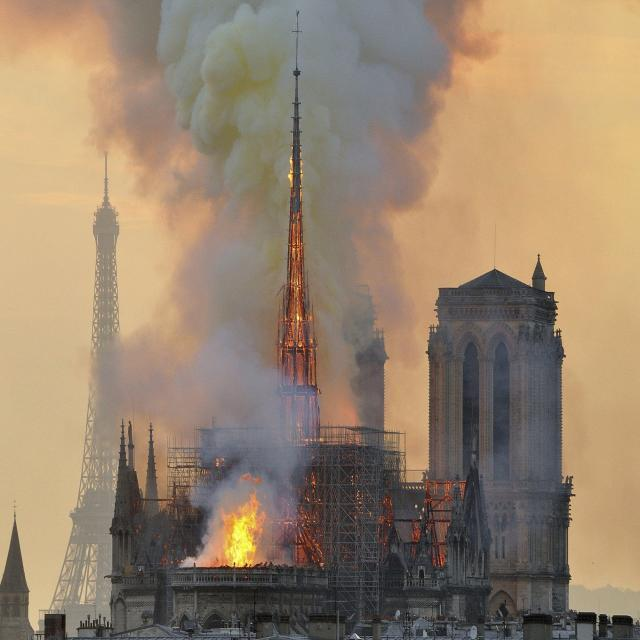Fire: (279, 205, 315, 348), (217, 488, 267, 568), (296, 472, 325, 566), (288, 130, 303, 203), (424, 479, 466, 502), (278, 347, 316, 368), (438, 502, 451, 542), (381, 498, 394, 528), (269, 519, 297, 532), (238, 472, 262, 484), (297, 424, 308, 444), (410, 520, 420, 542), (434, 551, 446, 568), (161, 546, 167, 566), (312, 381, 321, 394), (308, 436, 324, 442), (171, 558, 184, 564), (216, 458, 224, 467), (170, 498, 175, 508), (136, 525, 141, 534), (184, 548, 187, 554)
Smoke: (110, 0, 288, 204), (304, 0, 456, 203), (98, 334, 279, 449), (304, 206, 366, 443), (168, 204, 278, 331), (366, 212, 423, 368), (222, 426, 296, 494), (193, 481, 222, 541), (180, 542, 222, 568), (266, 547, 294, 565)
